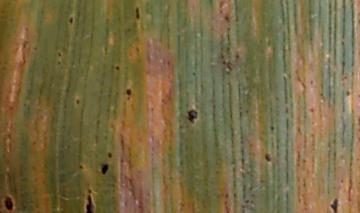tarspot: (187, 108, 198, 124), (5, 195, 14, 212), (87, 194, 95, 213), (329, 198, 339, 213), (100, 163, 110, 175), (134, 6, 141, 20), (264, 152, 272, 163), (125, 87, 132, 97), (77, 163, 85, 171), (67, 16, 74, 25), (106, 150, 113, 159), (345, 90, 352, 98), (269, 124, 275, 133), (114, 65, 121, 72), (74, 98, 81, 105), (87, 186, 92, 195), (57, 51, 63, 58), (57, 59, 62, 66), (234, 54, 241, 59)
